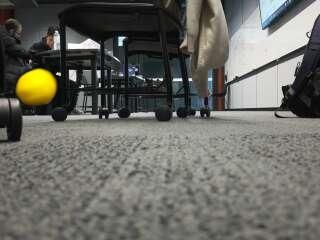lemon: (17, 70, 58, 106)
